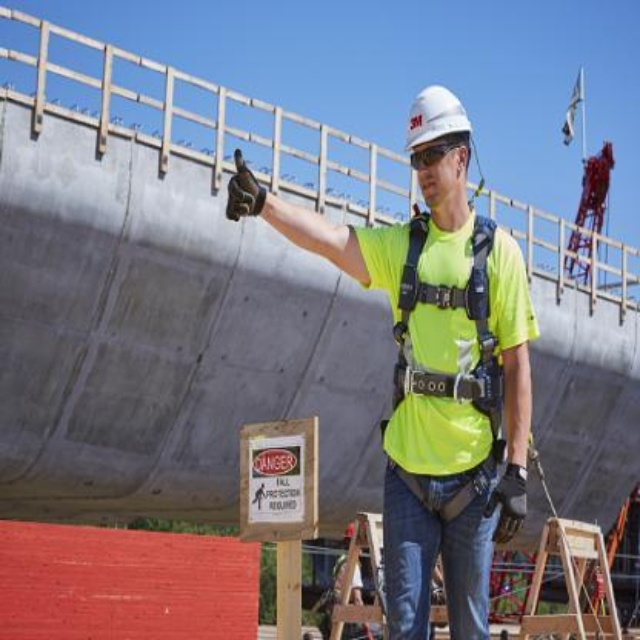Arnes_seguridad: (381, 209, 507, 532)
